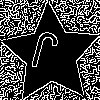J: (26, 29, 61, 81)
